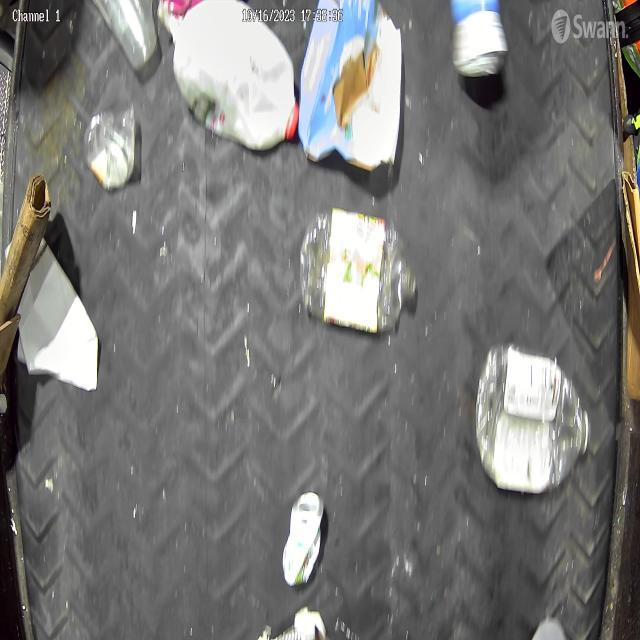can: (280, 490, 330, 594)
milk_jug: (165, 11, 292, 151)
plastic_bottle: (478, 346, 594, 499), (300, 206, 414, 338)
